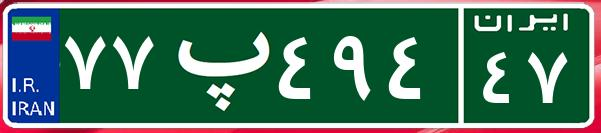4: (385, 28, 445, 110), (273, 28, 330, 110), (475, 38, 525, 113)
7: (57, 26, 110, 107), (110, 28, 158, 105), (525, 38, 570, 115)
9: (330, 28, 385, 110)
پ: (158, 15, 273, 115)
